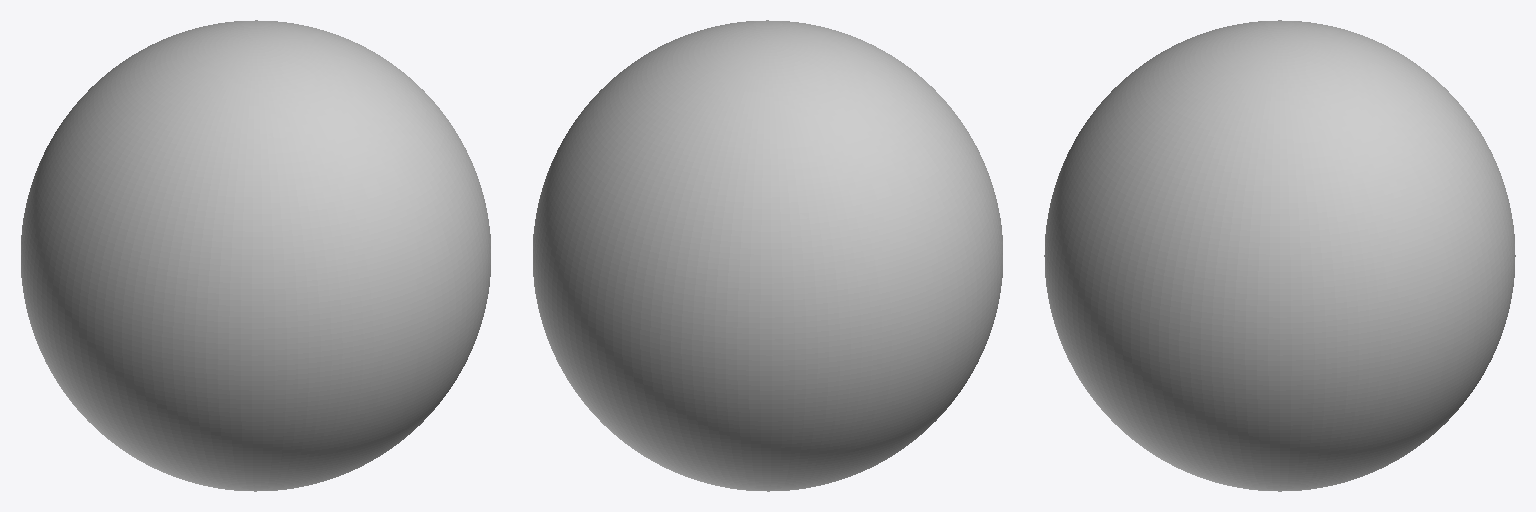
The model's file is marte.obj.
The picture shows the model from 3 angles: view 1: azimuth 30°, elevation 25°; view 2: azimuth 150°, elevation 25°; view 3: azimuth 270°, elevation 25°; orthographic projection.
Parts seen in each view (by area): view 1: Moon_Sphere.001; view 2: Moon_Sphere.001; view 3: Moon_Sphere.001.
Part boxes in pixels (left/top/right/bottom): Moon_Sphere.001: left=21, top=20, right=490, bottom=491; Moon_Sphere.001: left=533, top=20, right=1002, bottom=491; Moon_Sphere.001: left=1044, top=20, right=1515, bottom=491.
Bounding box in the file's own units: 2.35 × 2.35 × 2.35.